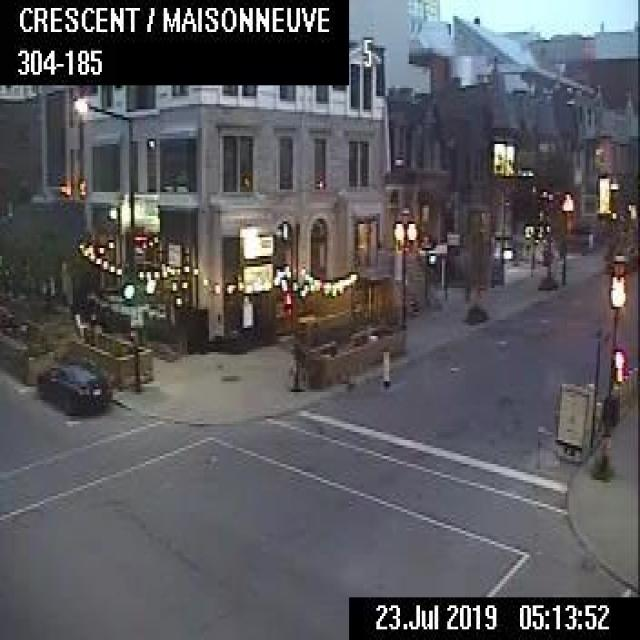vehicle: (32, 349, 112, 419)
